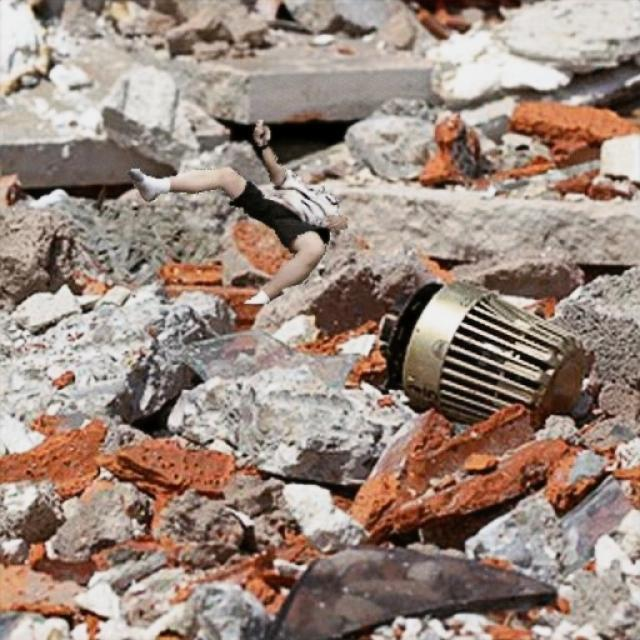Person in Rubble: (128, 120, 346, 302)
